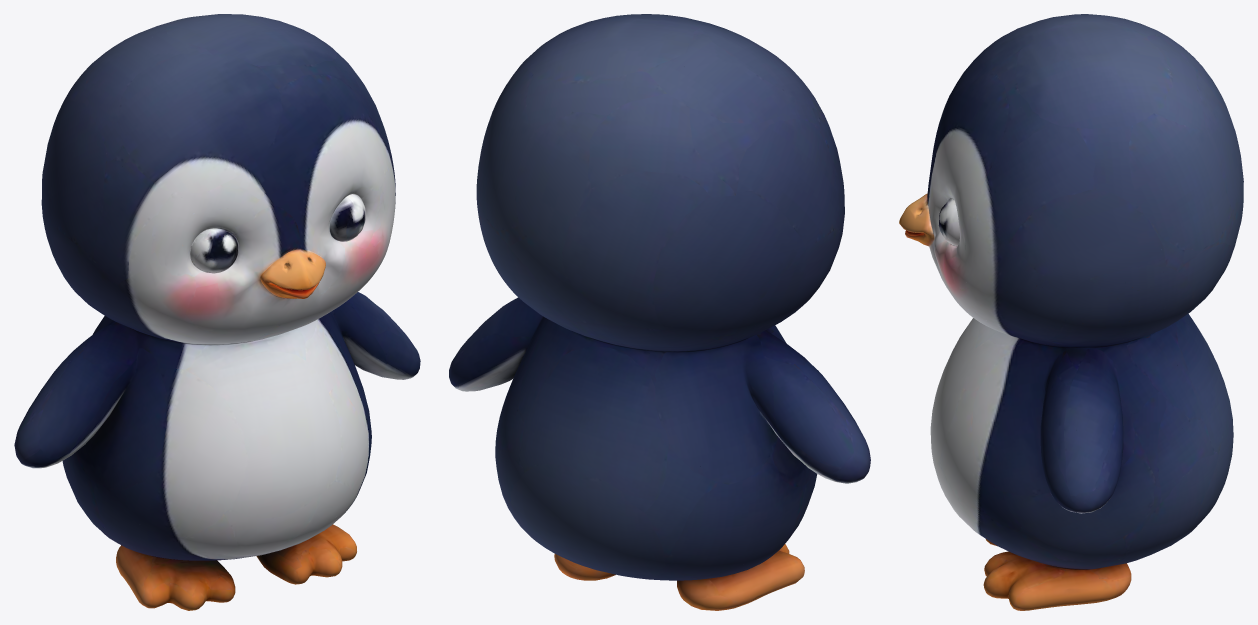
The model's file is pet_penguin.glb.
The picture shows the model from 3 angles, left to right: view 1: azimuth 30°, elevation 25°; view 2: azimuth 150°, elevation 25°; view 3: azimuth 270°, elevation 25°; orthographic projection. The views are drawn at different scales.
Parts seen in each view (by area): view 1: node_0; view 2: node_0; view 3: node_0.
Boxes of the visible parts, <box> form: node_0: <box>14,14,420,610</box>; node_0: <box>449,14,870,610</box>; node_0: <box>899,14,1243,610</box>.
Size of the model in its own units: 0.8663 by 1.1 by 0.6524.
1 material, 1 textured.
